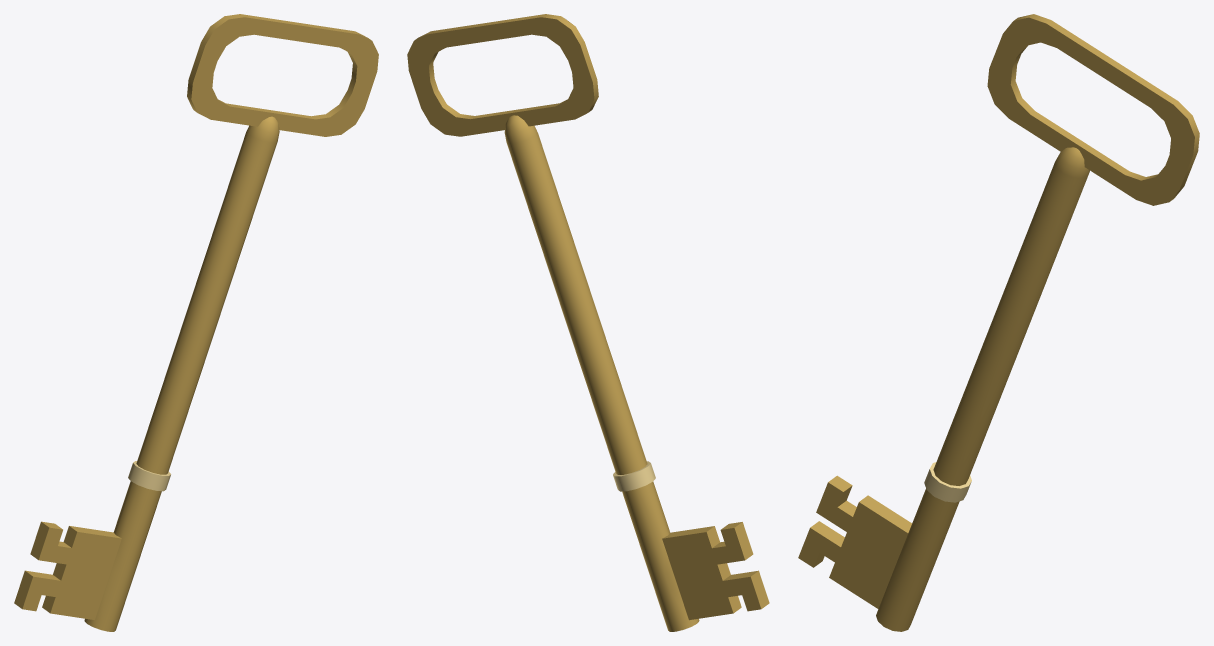
The model's file is Key_12.fbx.
The picture shows the model from 3 angles, left to right: view 1: azimuth 30°, elevation 25°; view 2: azimuth 150°, elevation 25°; view 3: azimuth 330°, elevation 25°; orthographic projection. The views are drawn at different scales.
Visible parts, largest first — view 1: Key12.001; view 2: Key12.001; view 3: Key12.001.
Part boxes in pixels (bbox=[...]): Key12.001: bbox=[14, 14, 378, 631]; Key12.001: bbox=[407, 14, 769, 631]; Key12.001: bbox=[798, 14, 1199, 631].
Size of the model in its own units: 0.8605 by 1.34 by 0.0838.
